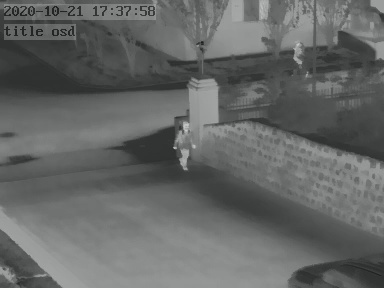person: (173, 119, 195, 170)
